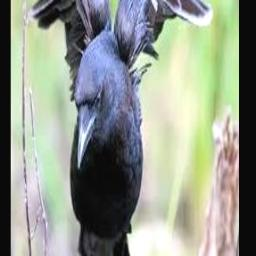Crow: (29, 0, 214, 256)
